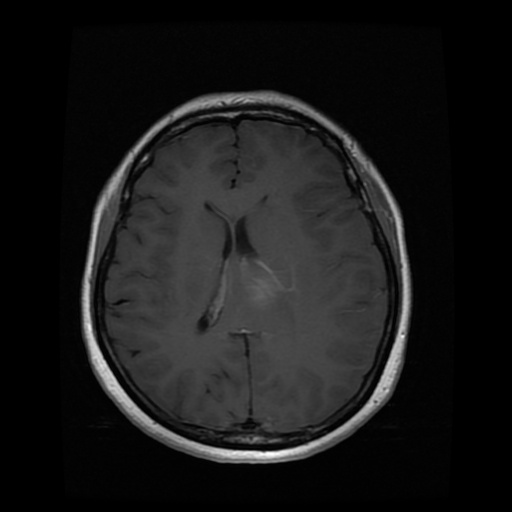meningioma: (210, 255, 286, 319)
